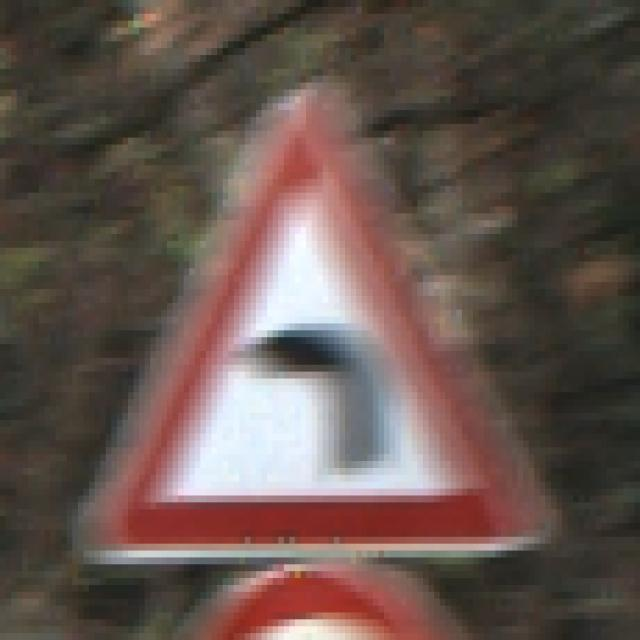left hand curve: (73, 86, 557, 553)
